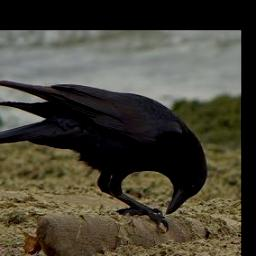Crow: (0, 80, 209, 234)
